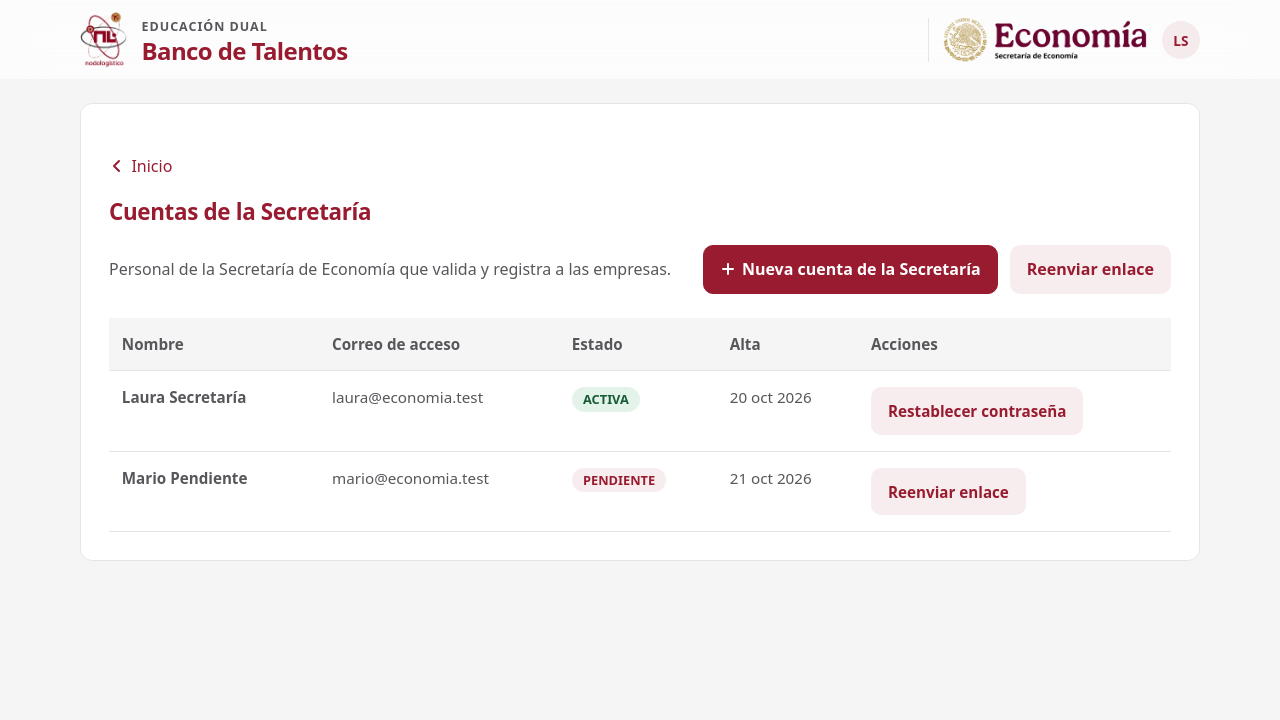
Scenario: cuentas de la Secretaría HU-S4-01 › reenvía el enlace de una cuenta pendiente desde su fila (CA-04)
Click the button with aria-label "Reenviar enlace a Mario Pendiente" at (948, 492), box top-left (871, 468), bottom-right (1026, 515)
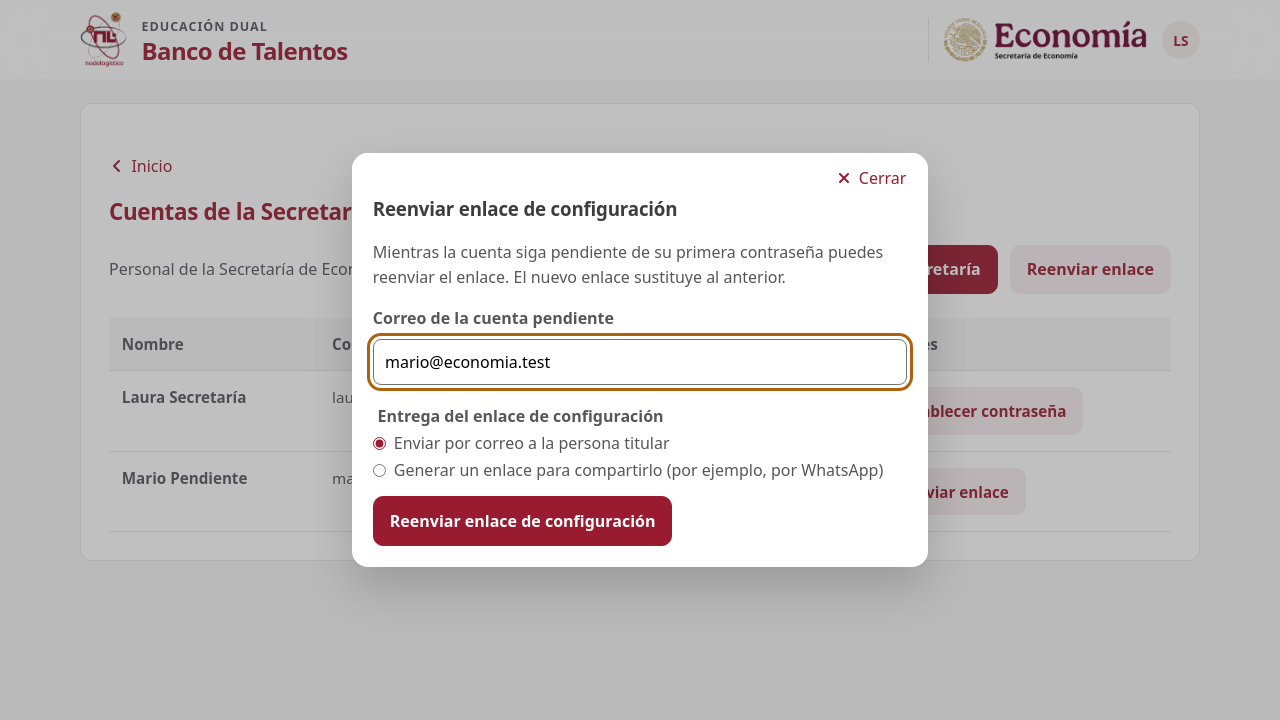
Expected: the field labelled "Correo de la cuenta pendiente" holds "mario@economia.test", top-left (373, 339), bottom-right (907, 386)
Click the button "Reenviar enlace de configuración" at (523, 521), box top-left (373, 496), bottom-right (672, 546)
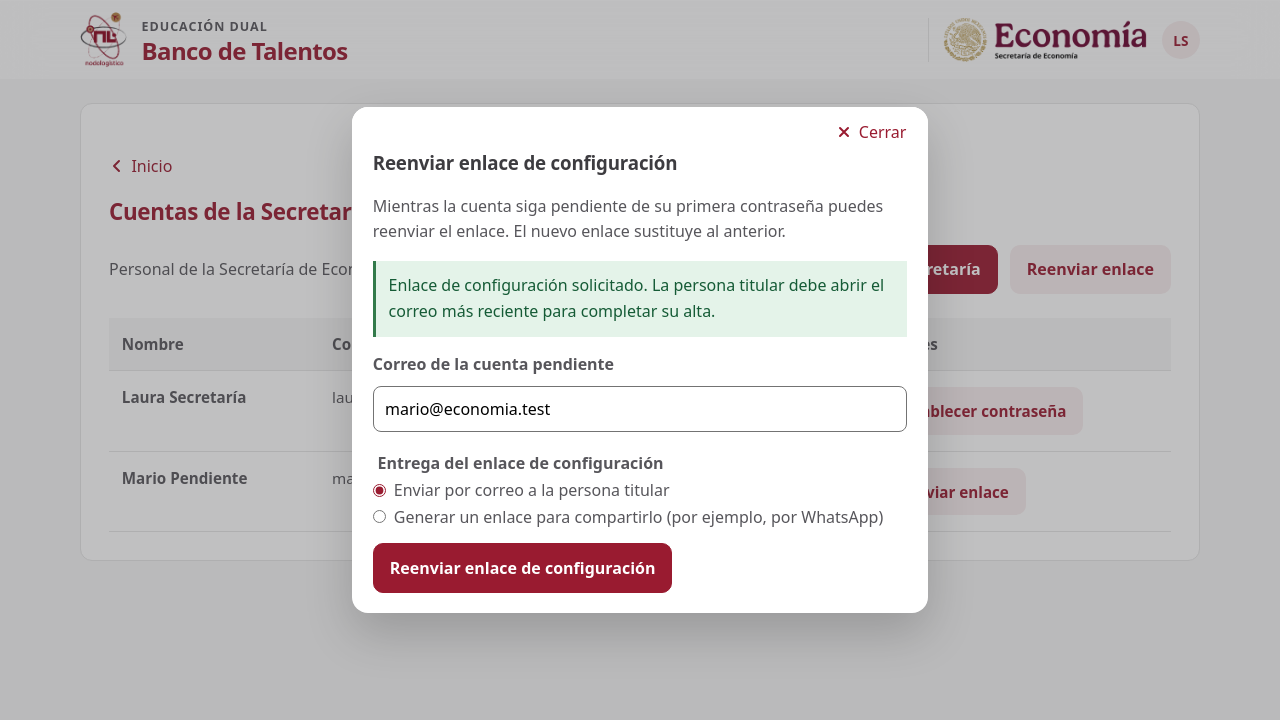
Expected: the text "Enlace de configuración solicitado" is shown, top-left (389, 274), bottom-right (884, 322)
